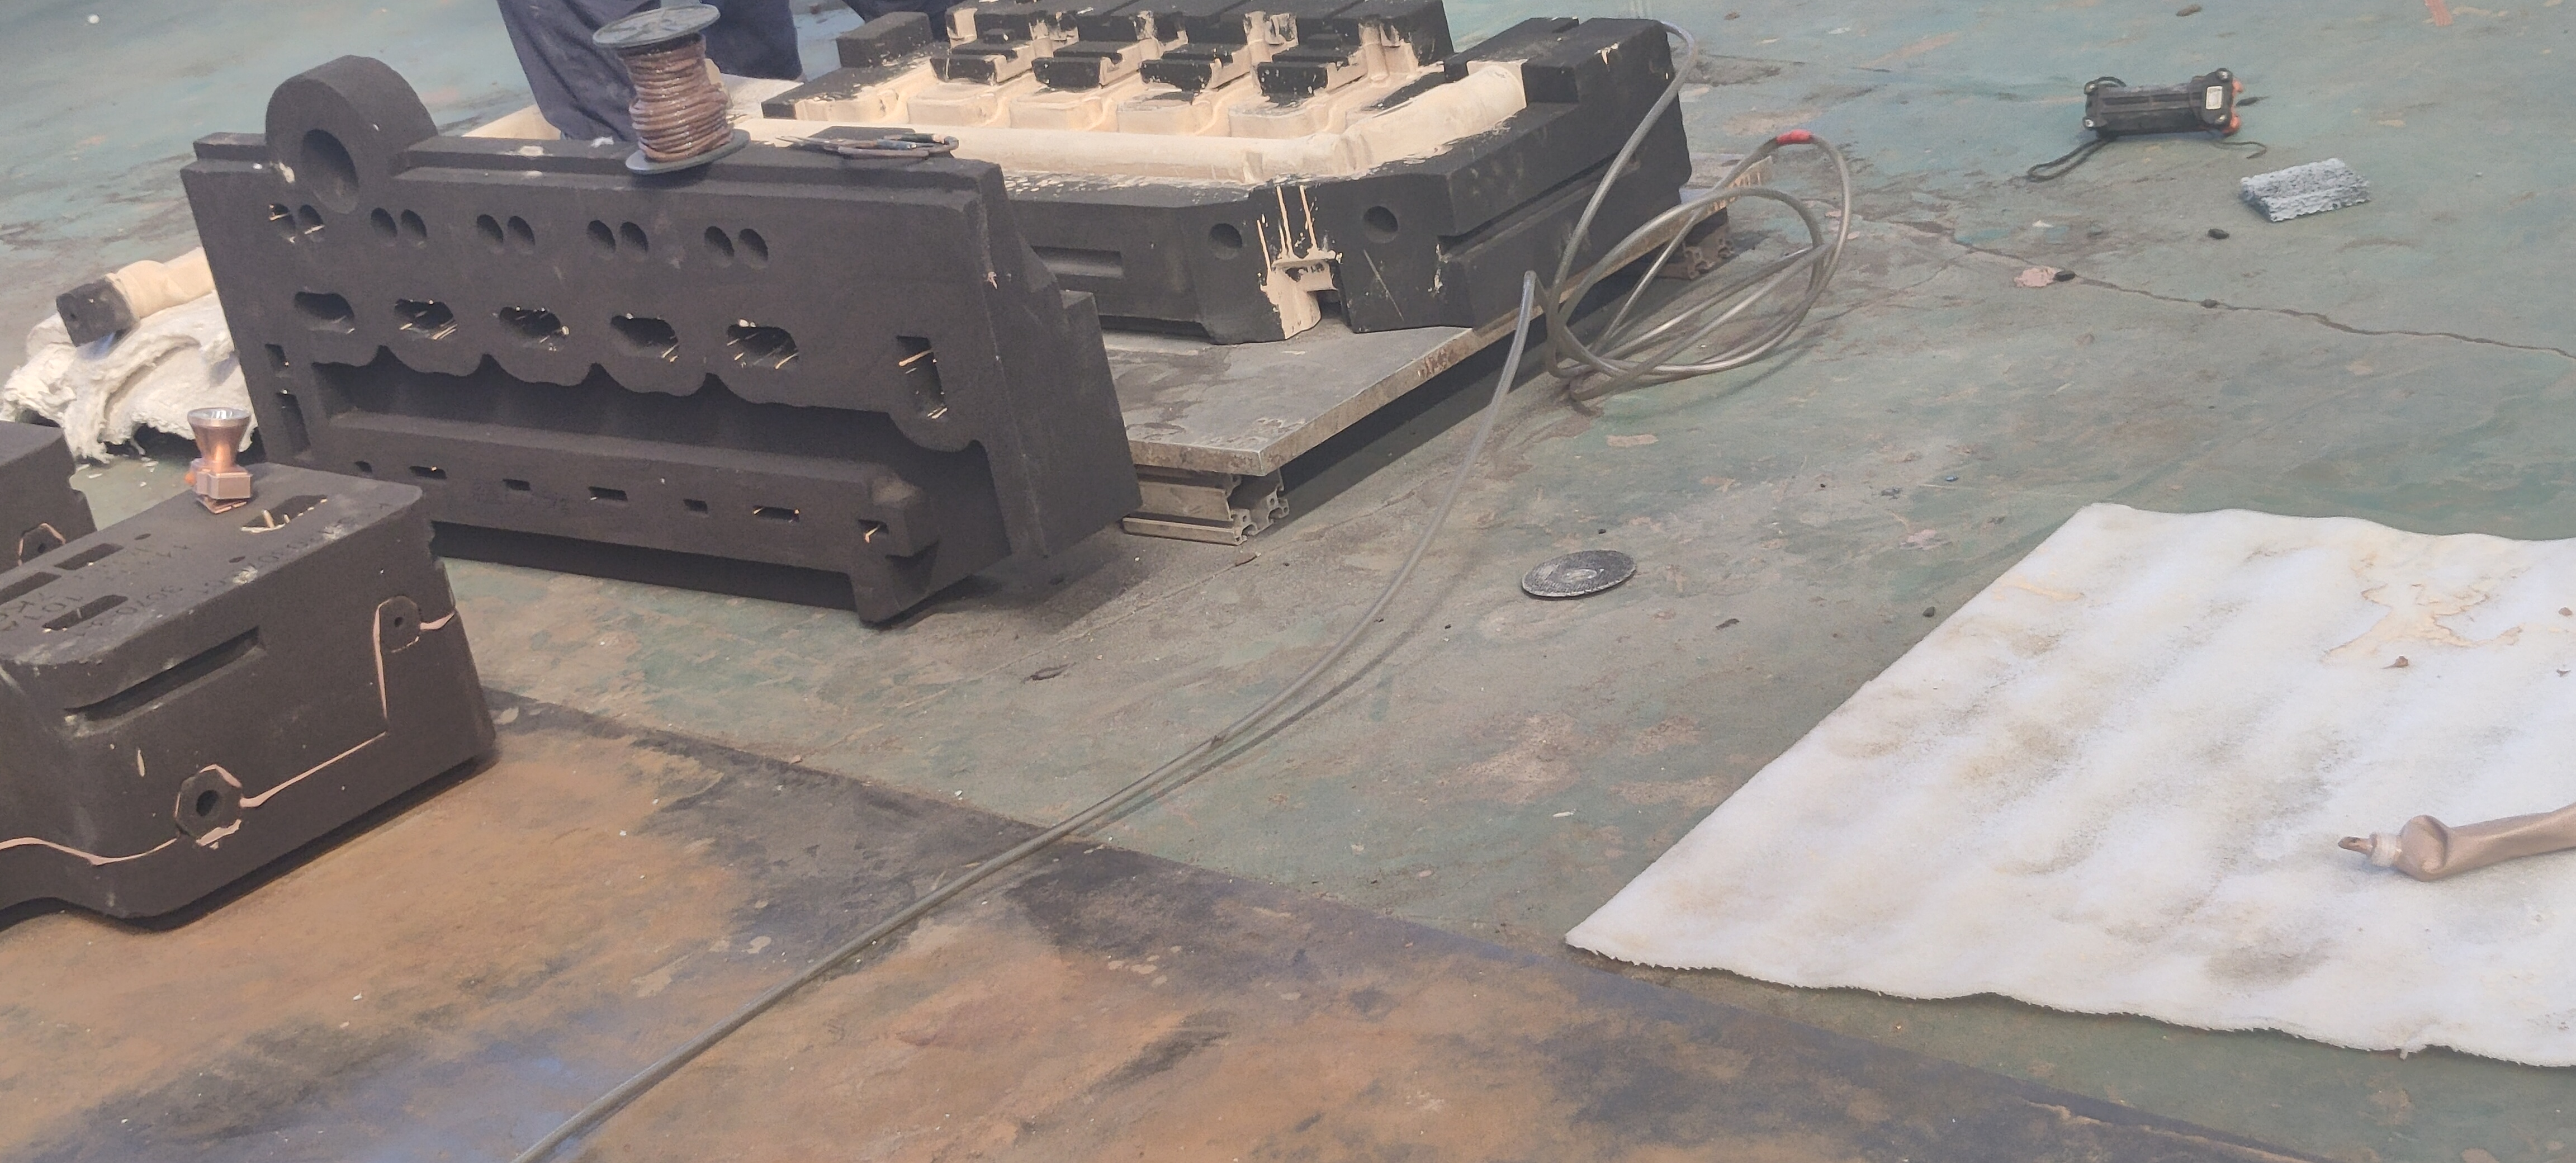pouring hole: (299, 130, 358, 214)
